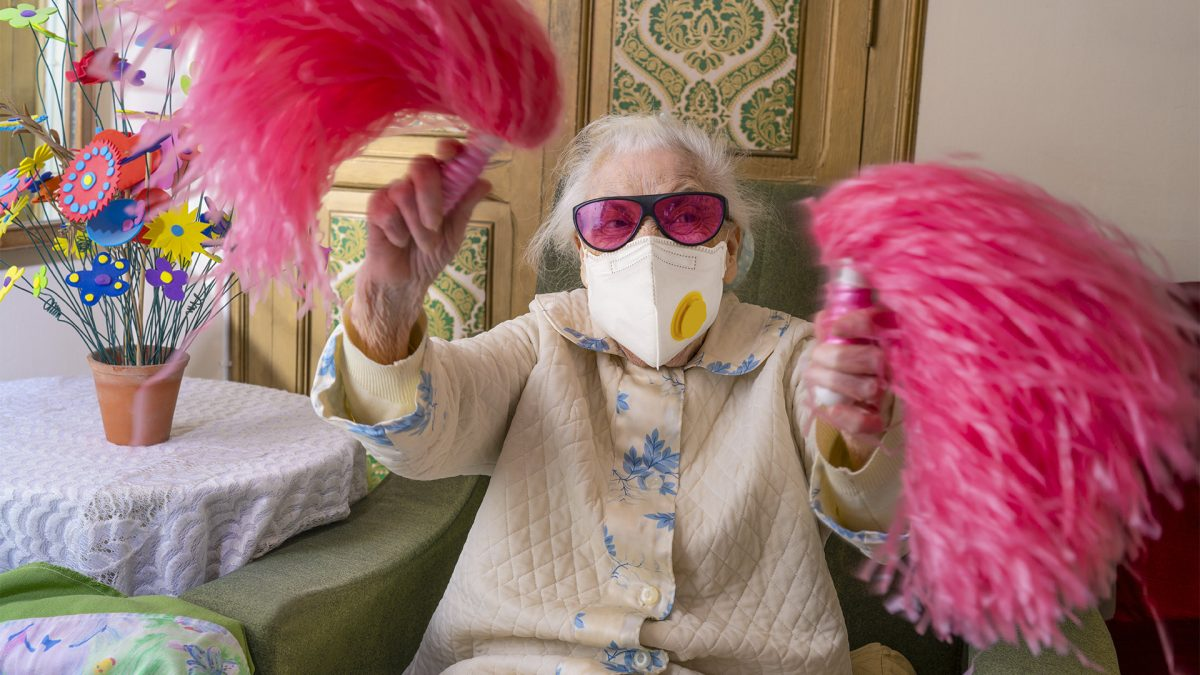with_mask: (576, 151, 742, 361)
